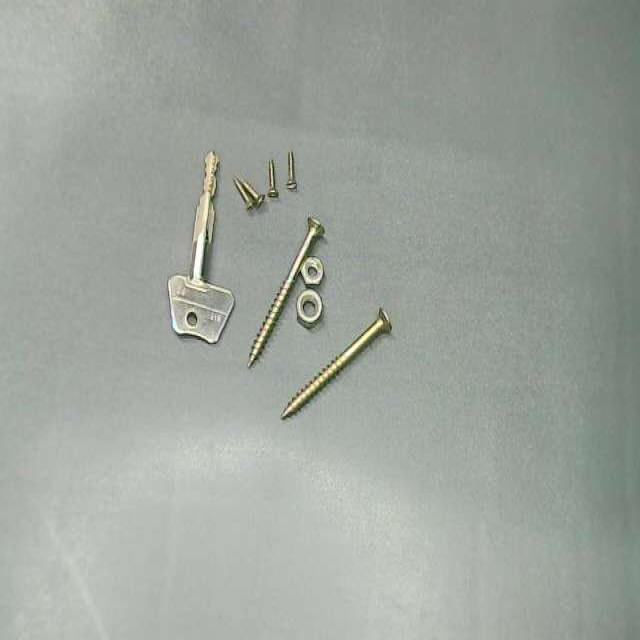Parafuso: (281, 308, 390, 418), (248, 218, 323, 366), (233, 178, 256, 210), (240, 179, 264, 206), (267, 160, 278, 198), (286, 151, 296, 190)
Porca: (296, 290, 322, 325), (301, 256, 323, 286)
